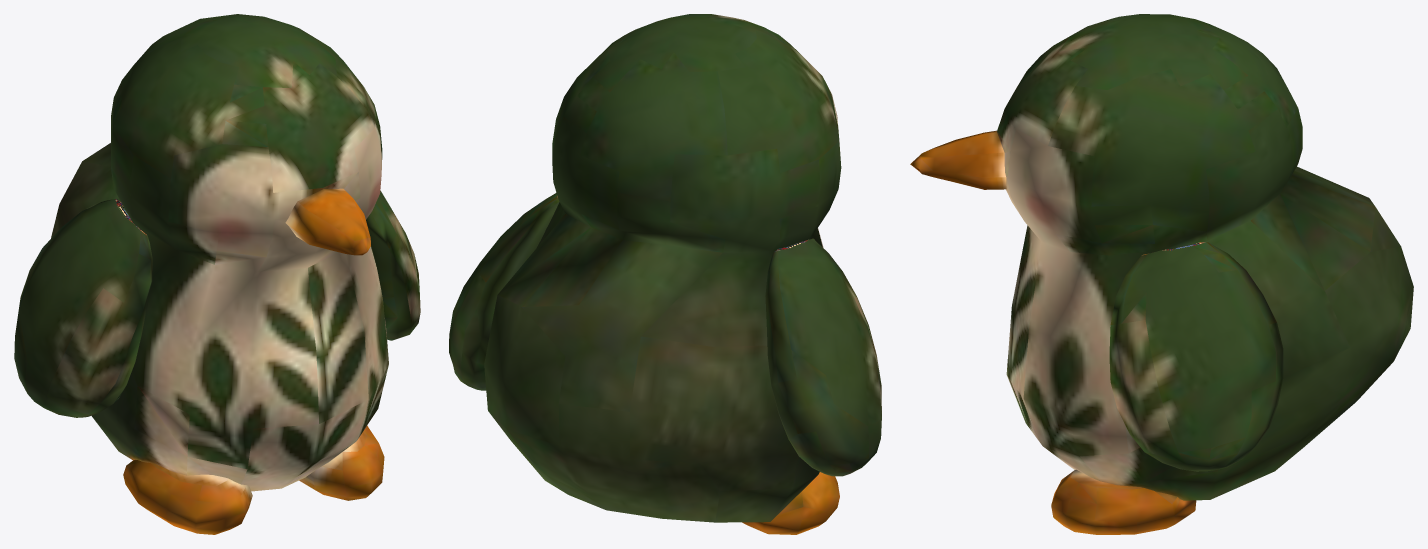
Rendered from penguin-01-14-green-leaf-pattern.gltf.
The picture shows the model from 3 angles, left to right: view 1: azimuth 30°, elevation 25°; view 2: azimuth 150°, elevation 25°; view 3: azimuth 270°, elevation 25°; orthographic projection. The views are drawn at different scales.
Visible parts, largest first — view 1: penguin-01-14-green-leaf-pattern; view 2: penguin-01-14-green-leaf-pattern; view 3: penguin-01-14-green-leaf-pattern.
Part boxes in pixels (bbox=[...]): penguin-01-14-green-leaf-pattern: bbox=[14, 14, 420, 534]; penguin-01-14-green-leaf-pattern: bbox=[449, 14, 881, 534]; penguin-01-14-green-leaf-pattern: bbox=[910, 14, 1413, 534].
Size of the model in its own units: 0.2 by 0.226 by 0.2246.
1 material, 1 textured.
